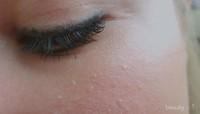Acne: (53, 70, 133, 113)
